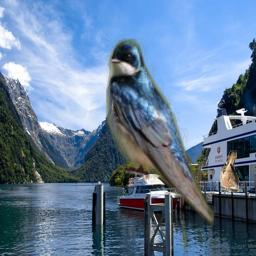Cuckoo: (220, 150, 243, 192)
Swallow: (106, 35, 214, 227)
